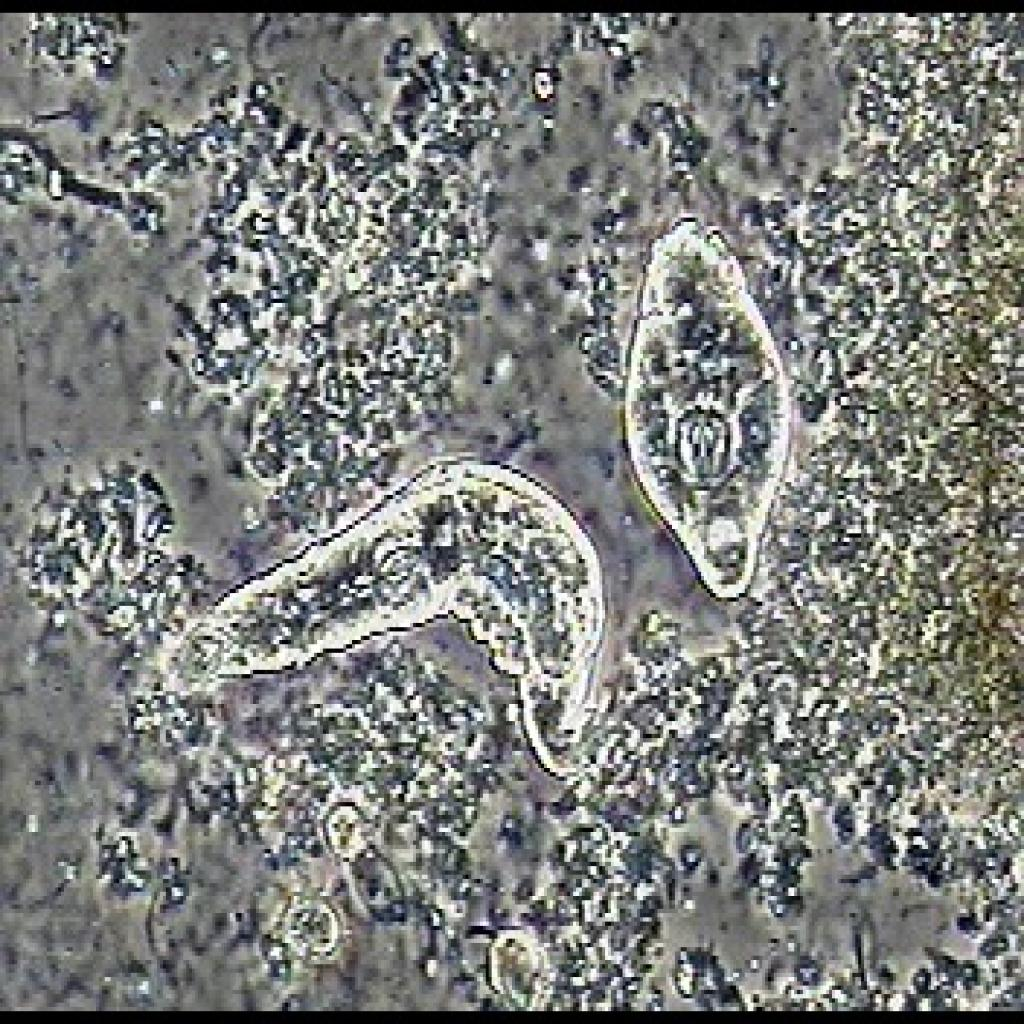Rotatoria: (142, 444, 611, 810), (614, 154, 797, 602)
